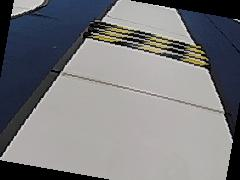CrossWalk: (86, 17, 212, 73)
